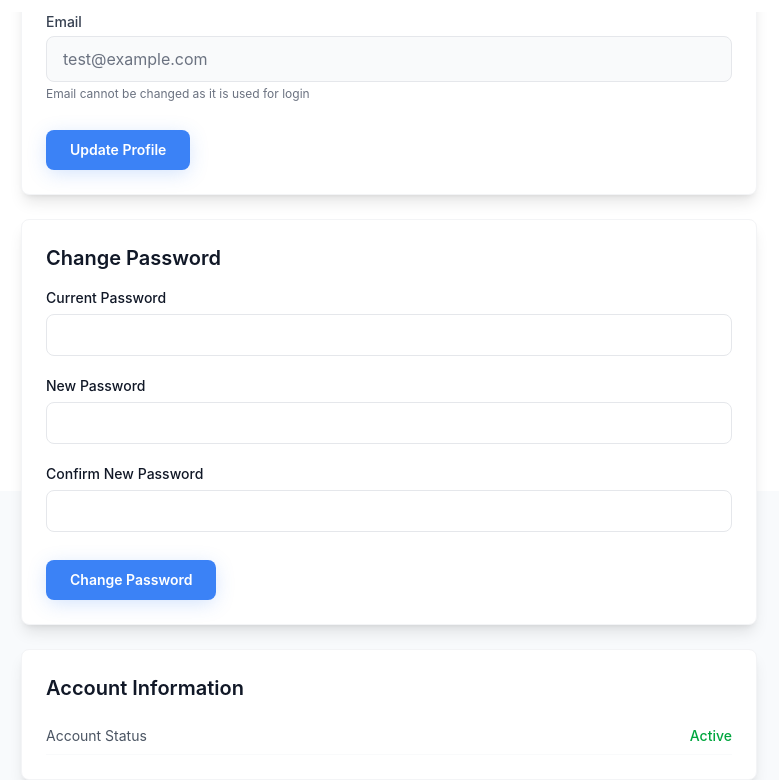
it: ManageAccountPage › validates password confirmation
The width and height of the screenshot is (779, 780).
(page scrolled)
Step 1. Type "oldpassword123" into the password field labelled "Current Password" → (389, 335), box [46,314,732,356]
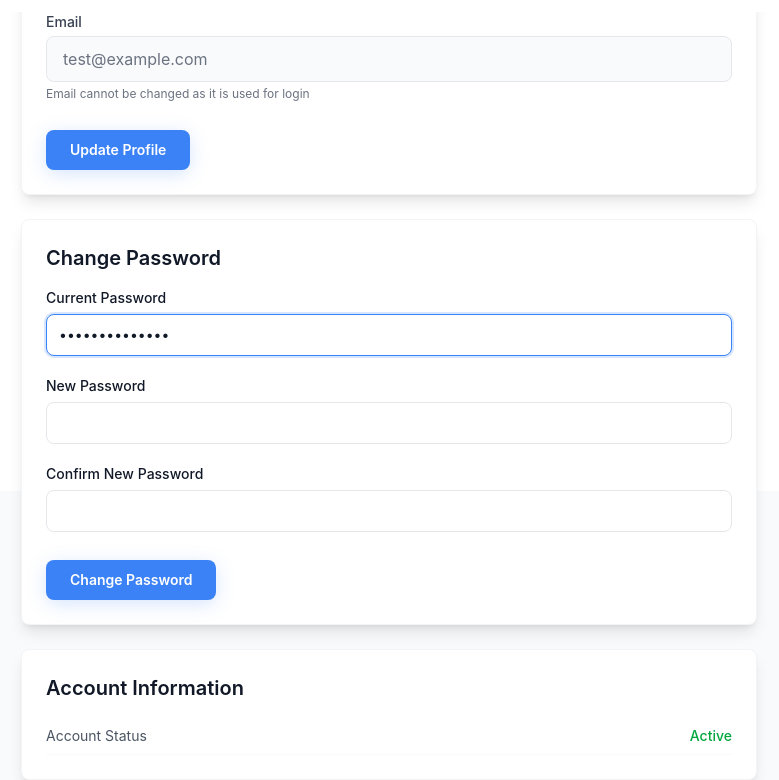
Step 2. Type "newpassword123" into the password field labelled "New Password" → (389, 423), box [46,402,732,444]
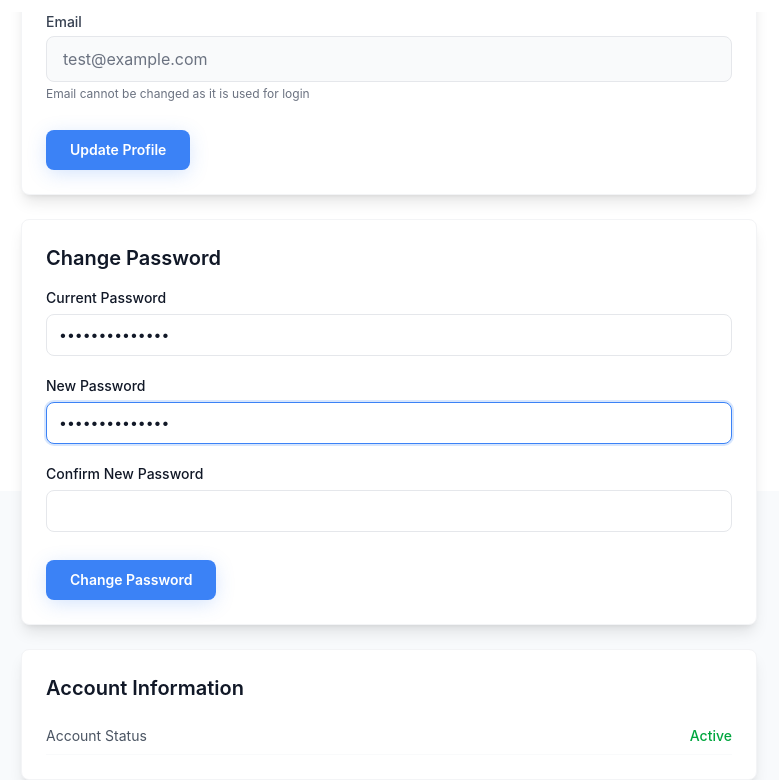
Step 3. Type "differentpassword" into the password field labelled "Confirm New Password" → (389, 511), box [46,490,732,532]
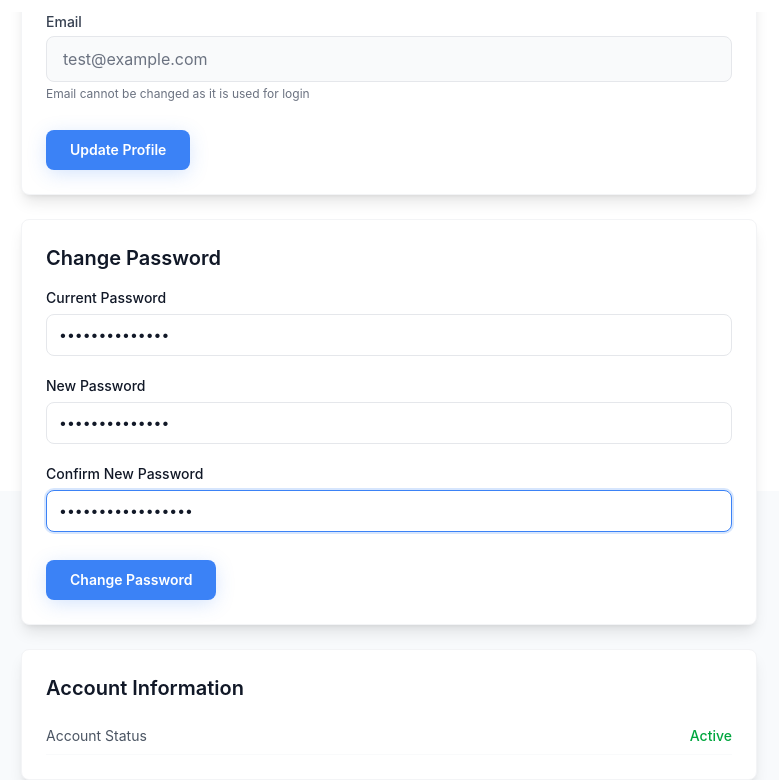
Step 4. Click the button "Change Password" → (131, 580), box [46,560,216,600]
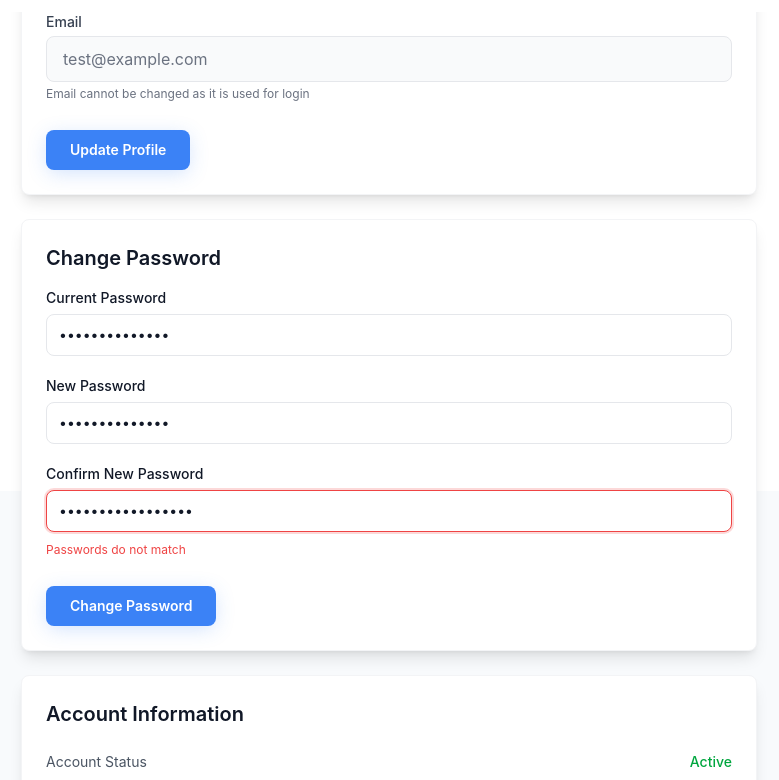
Result: the text "Passwords do not match" is shown at [46,542,186,557]
